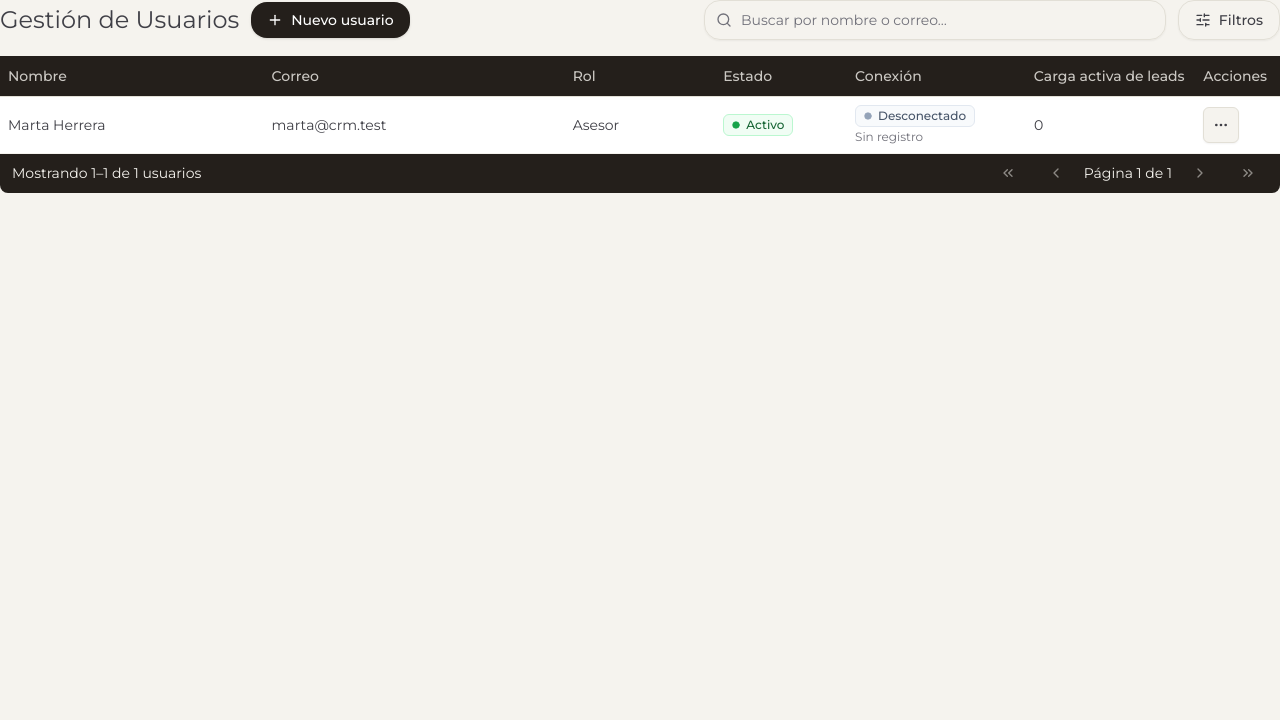
Test: UsuariosPage — filtro de estado por defecto (F7) › arranca con el filtro de estado en «Activos», mandando `activo: true` desde la primera consulta
Expected: the text "Marta Herrera" is shown, [8,116,106,134]
Click the button "Filtros": (1229, 20) [1178,0,1279,40]
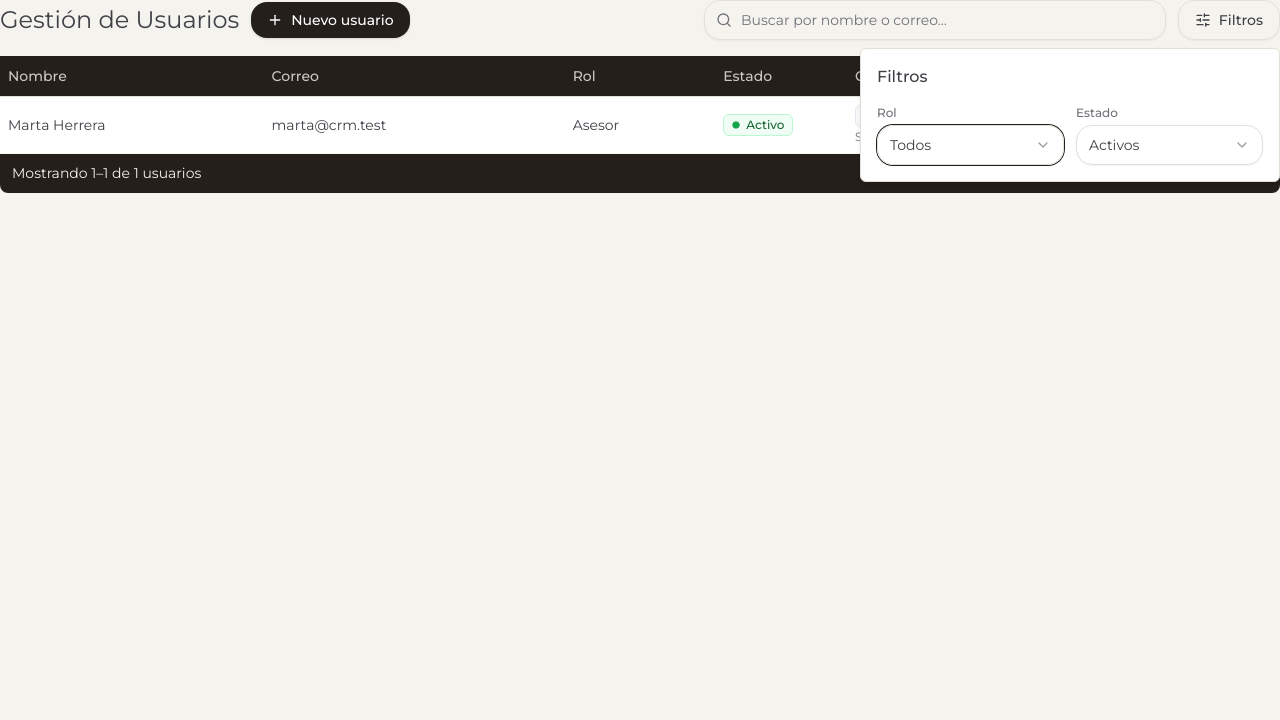
Now the dropdown named "Estado" reads "Activos", box [1076,125,1263,165]
